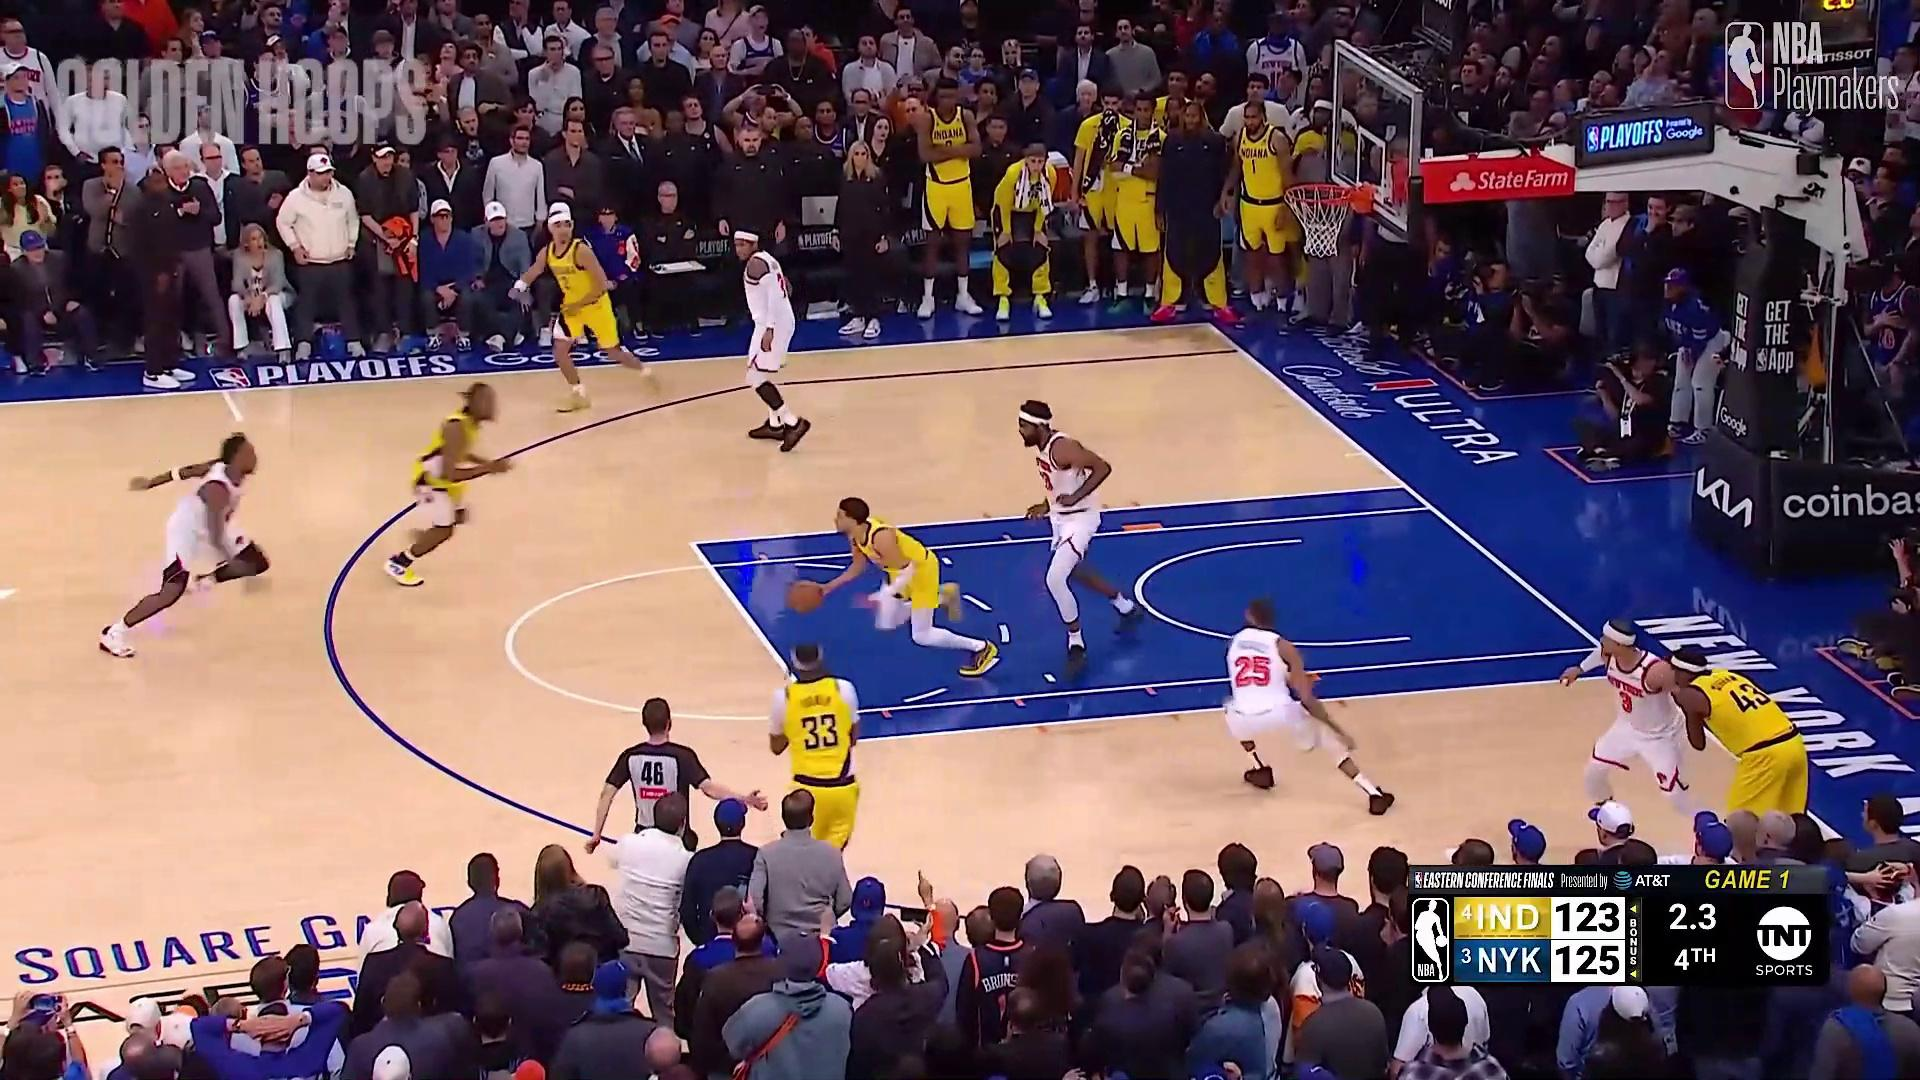ball: (789, 576, 818, 616)
hoop: (1288, 178, 1353, 269)
